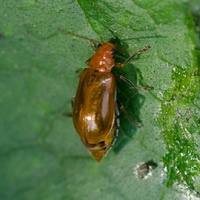insect: (57, 28, 148, 161)
